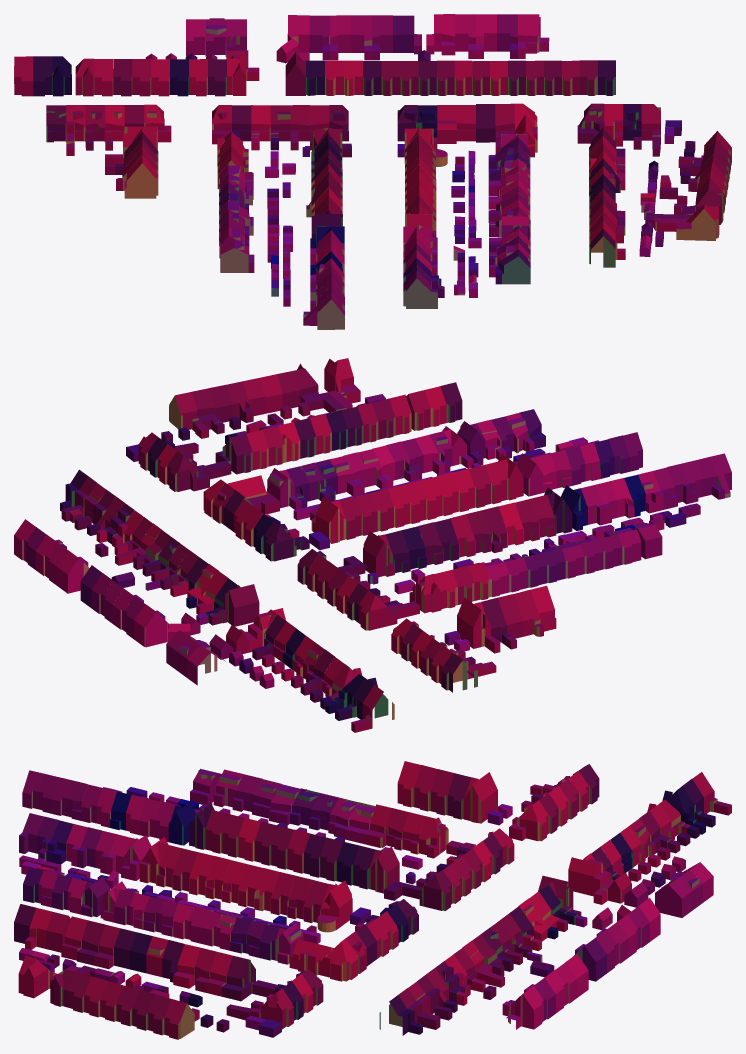
File: buildings_3_6.glb
3 views of the same model, one above another, from view 1: azimuth 30°, elevation 25°; view 2: azimuth 150°, elevation 25°; view 3: azimuth 270°, elevation 25° (orthographic). The views are drawn at different scales.
Visible parts, largest first — view 1: buildings_3_6; view 2: buildings_3_6; view 3: buildings_3_6.
Boxes of the visible parts, x1,y1,x2,y2 form: buildings_3_6: [14, 14, 731, 329]; buildings_3_6: [14, 358, 731, 732]; buildings_3_6: [14, 761, 731, 1039].
Bounding box in the file's own units: 176 × 12.42 × 213.
